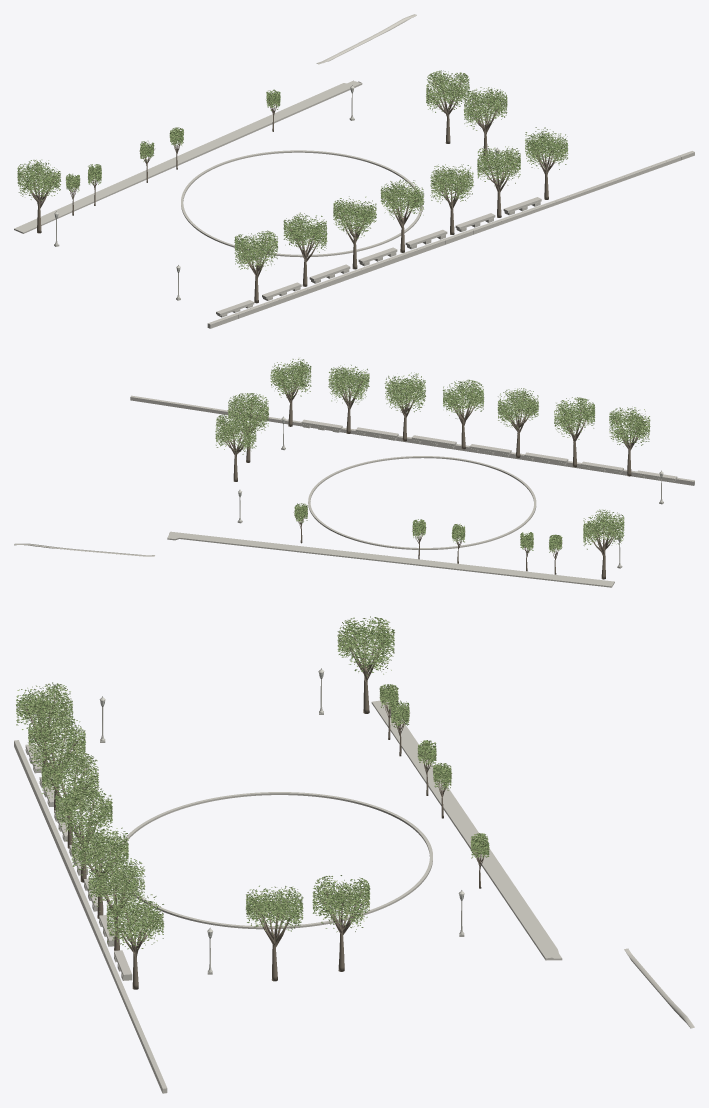
Rendered from mobiliario_plaza.glb.
The picture shows the model from 3 angles, top to bottom: view 1: azimuth 30°, elevation 25°; view 2: azimuth 150°, elevation 25°; view 3: azimuth 270°, elevation 25°; orthographic projection. The views are drawn at different scales.
Parts seen in each view (by area): view 1: PA-V4-PASEO, TRZ_BORDILLO_SUR_piedras, PA-V4-BORDILLO-CIRCULAR, PA-V5-ARBOL-ESTE-01_copa, PA-V3-ARBOL-INTERIOR-01_copa, PA-V5-ARBOL-ESTE-02_copa, PA-V4-ARBOL-CALLE-EXTERIOR-O_copa, PA-V3-ARBOL-INTERIOR-06_copa, PA-V3-ARBOL-INTERIOR-05_copa, PA-V3-ARBOL-INTERIOR-03_copa, PA-V3-ARBOL-INTERIOR-04_copa, PA-V3-ARBOL-EXTERIOR-E_copa (+1 smaller); view 2: PA-V4-PASEO, TRZ_BORDILLO_SUR_piedras, PA-V4-BORDILLO-CIRCULAR, PA-V5-ARBOL-ESTE-01_copa, PA-V3-ARBOL-INTERIOR-01_copa, PA-V3-ARBOL-INTERIOR-05_copa, PA-V3-ARBOL-INTERIOR-02_copa, PA-V3-ARBOL-INTERIOR-06_copa, PA-V3-ARBOL-INTERIOR-03_copa, PA-V4-ARBOL-CALLE-EXTERIOR-O_copa, PA-V5-ARBOL-ESTE-02_copa, PA-V3-ARBOL-INTERIOR-04_copa (+1 smaller); view 3: PA-V4-PASEO, TRZ_BORDILLO_SUR_piedras, PA-V4-BORDILLO-CIRCULAR, PA-V4-ARBOL-CALLE-EXTERIOR-O_copa, PA-V3-ARBOL-INTERIOR-02_copa, PA-V3-ARBOL-EXTERIOR-E_copa, PA-V3-ARBOL-INTERIOR-04_copa, PA-V5-ARBOL-ESTE-01_copa, PA-V3-ARBOL-INTERIOR-06_copa, PA-V3-ARBOL-INTERIOR-03_copa, PA-V3-ARBOL-INTERIOR-05_copa, PA-V5-ARBOL-ESTE-02_copa (+1 smaller).
Part boxes in pixels (x1,y1,x2,y2): PA-V4-PASEO: (14, 80, 362, 233); TRZ_BORDILLO_SUR_piedras: (207, 151, 694, 328); PA-V4-BORDILLO-CIRCULAR: (181, 150, 422, 257); PA-V5-ARBOL-ESTE-01_copa: (426, 70, 469, 112); PA-V3-ARBOL-INTERIOR-01_copa: (234, 230, 277, 270); PA-V5-ARBOL-ESTE-02_copa: (464, 87, 507, 130); PA-V4-ARBOL-CALLE-EXTERIOR-O_copa: (17, 159, 61, 200); PA-V3-ARBOL-INTERIOR-06_copa: (477, 146, 520, 186); PA-V3-ARBOL-INTERIOR-05_copa: (430, 164, 473, 203); PA-V3-ARBOL-INTERIOR-03_copa: (333, 196, 376, 238); PA-V3-ARBOL-INTERIOR-04_copa: (380, 179, 424, 219); PA-V3-ARBOL-EXTERIOR-E_copa: (525, 127, 568, 169); PA-V4-PASEO: (167, 531, 614, 587); TRZ_BORDILLO_SUR_piedras: (130, 395, 694, 485); PA-V4-BORDILLO-CIRCULAR: (308, 456, 536, 549); PA-V5-ARBOL-ESTE-01_copa: (215, 413, 256, 454); PA-V3-ARBOL-INTERIOR-01_copa: (609, 406, 650, 446); PA-V3-ARBOL-INTERIOR-05_copa: (384, 372, 425, 412); PA-V3-ARBOL-INTERIOR-02_copa: (554, 397, 595, 439); PA-V3-ARBOL-INTERIOR-06_copa: (328, 364, 369, 404); PA-V3-ARBOL-INTERIOR-03_copa: (497, 388, 538, 428); PA-V4-ARBOL-CALLE-EXTERIOR-O_copa: (583, 509, 624, 549); PA-V5-ARBOL-ESTE-02_copa: (227, 393, 268, 432); PA-V3-ARBOL-INTERIOR-04_copa: (442, 379, 484, 418); PA-V4-PASEO: (371, 700, 562, 960); TRZ_BORDILLO_SUR_piedras: (14, 740, 167, 1093); PA-V4-BORDILLO-CIRCULAR: (115, 792, 432, 929); PA-V4-ARBOL-CALLE-EXTERIOR-O_copa: (337, 616, 394, 675); PA-V3-ARBOL-INTERIOR-02_copa: (28, 716, 85, 770); PA-V3-ARBOL-EXTERIOR-E_copa: (106, 892, 164, 949); PA-V3-ARBOL-INTERIOR-04_copa: (55, 785, 112, 842); PA-V5-ARBOL-ESTE-01_copa: (312, 875, 370, 932); PA-V3-ARBOL-INTERIOR-06_copa: (88, 856, 145, 911); PA-V3-ARBOL-INTERIOR-03_copa: (41, 751, 99, 804); PA-V3-ARBOL-INTERIOR-05_copa: (71, 821, 128, 875); PA-V5-ARBOL-ESTE-02_copa: (245, 885, 303, 938).
Size of the model in its own units: 62.74 by 7.21 by 47.07.
